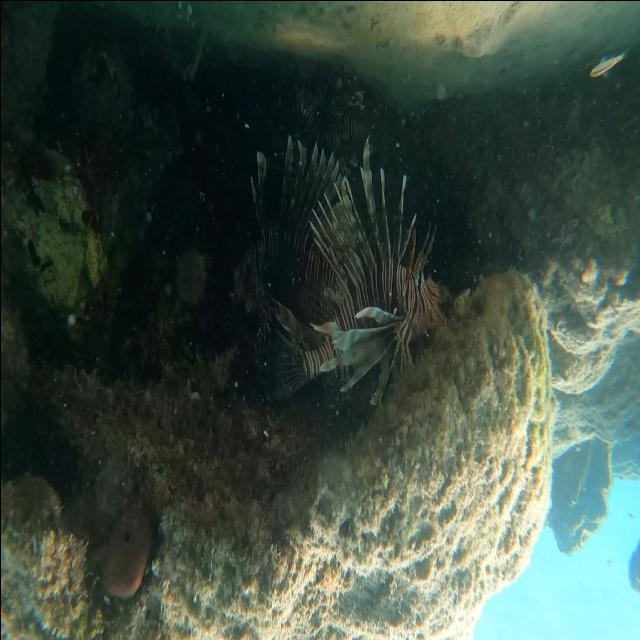Aslan Baligi: (280, 150, 447, 398)
